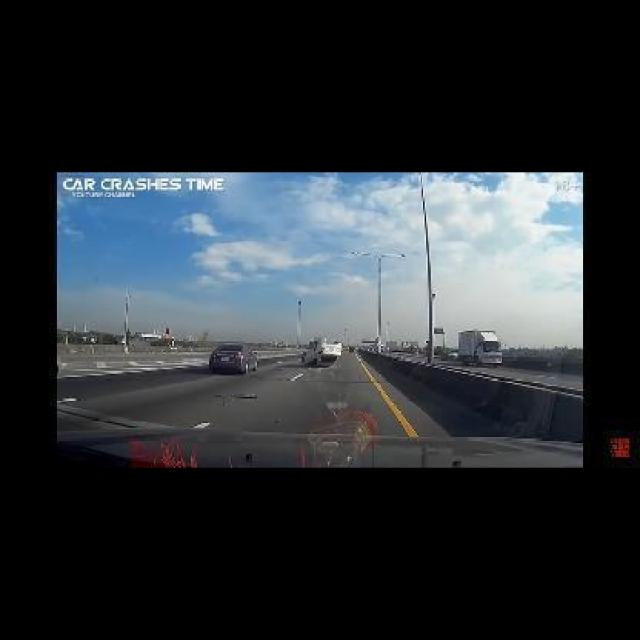accident: (295, 336, 348, 370)
